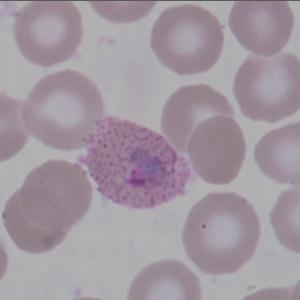Infected: (79, 111, 188, 207)
Uninfected: (184, 193, 260, 276), (24, 69, 101, 150), (148, 4, 223, 78), (22, 156, 92, 230), (162, 83, 234, 152), (14, 0, 81, 67), (235, 53, 300, 121), (4, 189, 70, 251), (186, 115, 243, 185), (230, 0, 291, 55), (125, 256, 199, 300)
